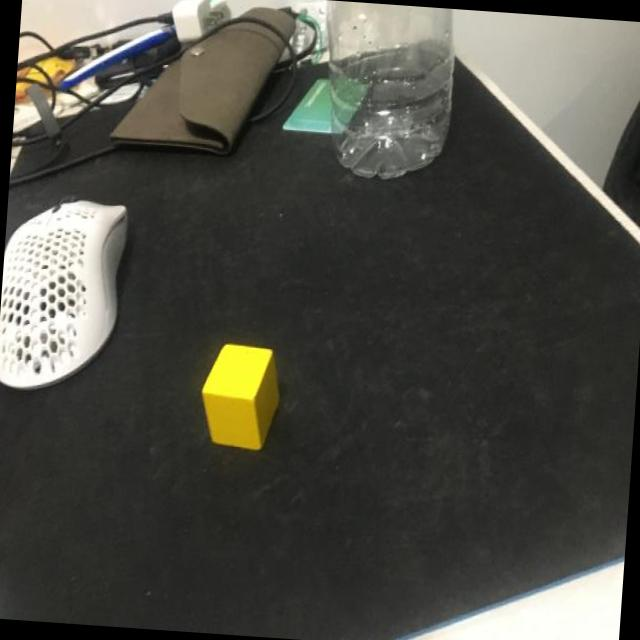yellow: (196, 343, 284, 452)
